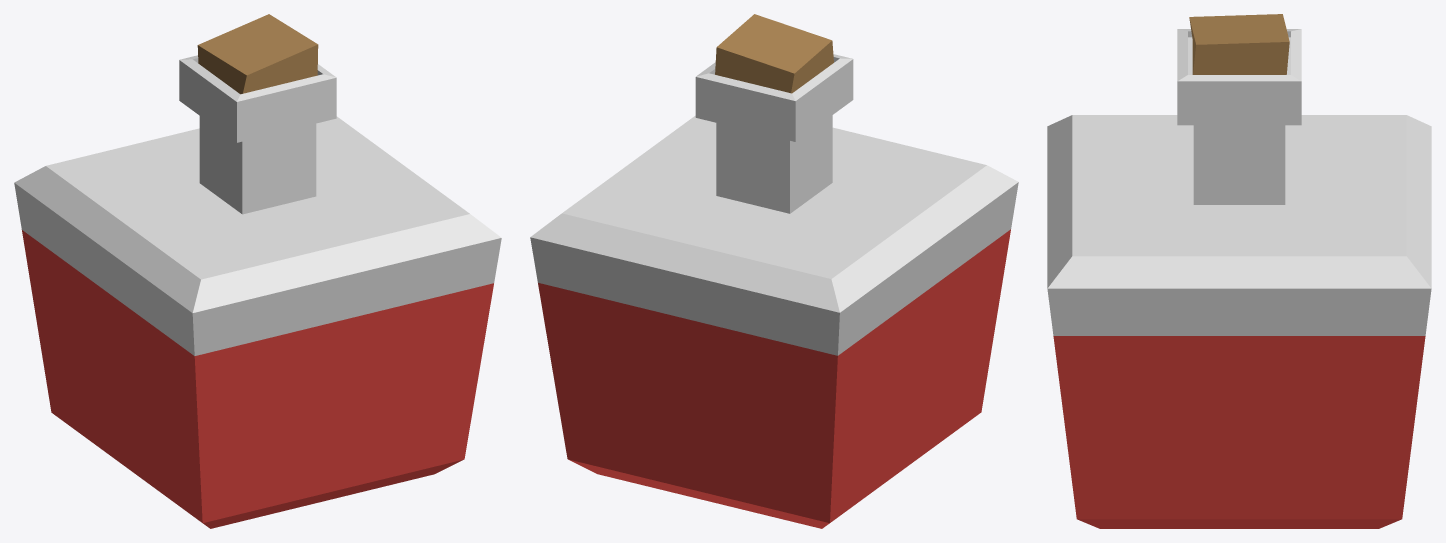
Rendered from Potion_Health.fbx.
3 views of the same model, side by side, from view 1: azimuth 30°, elevation 25°; view 2: azimuth 150°, elevation 25°; view 3: azimuth 270°, elevation 25° (orthographic). The views are drawn at different scales.
Visible parts, largest first — view 1: Potion_Health; view 2: Potion_Health; view 3: Potion_Health.
Part boxes in pixels (left/top/right/bottom): Potion_Health: left=14, top=14, right=501, bottom=528; Potion_Health: left=530, top=14, right=1018, bottom=528; Potion_Health: left=1047, top=14, right=1431, bottom=528.
Size of the model in its own units: 20 by 25.64 by 20.
